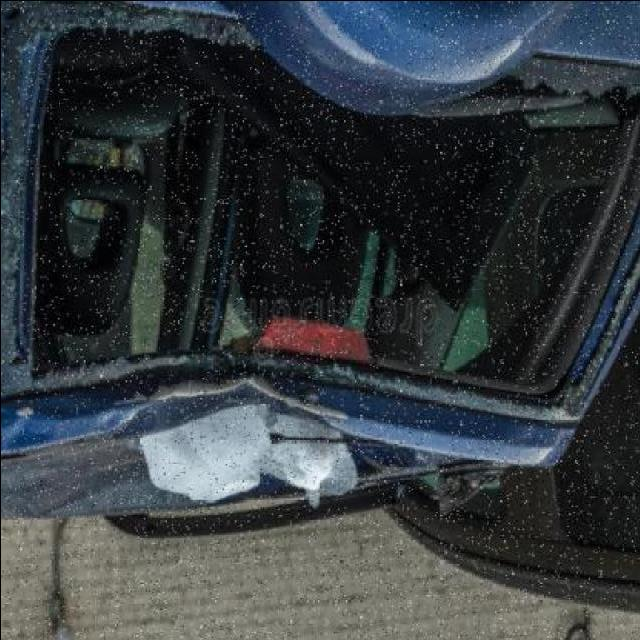Rear-windscreen-Damage: (2, 27, 640, 439)
roof-dent: (0, 419, 580, 551)
